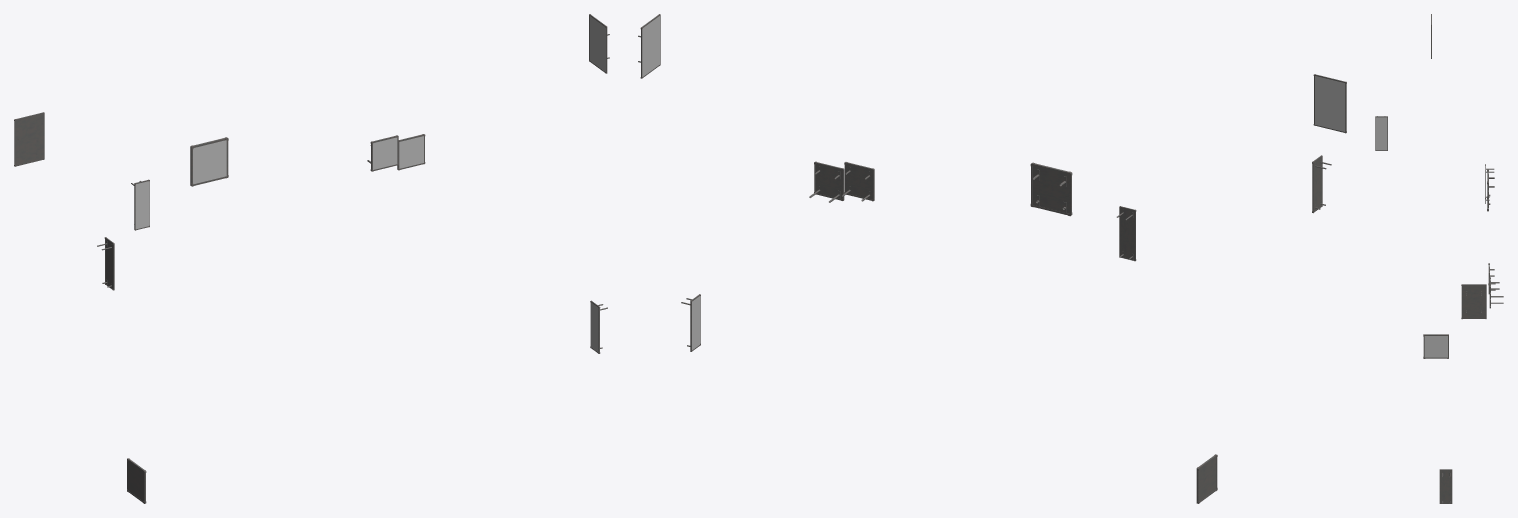
The model's file is Signboard_SetJ_a.fbx.
3 renders of one model, left to right at view 1: azimuth 30°, elevation 25°; view 2: azimuth 150°, elevation 25°; view 3: azimuth 270°, elevation 25°, orthographic. The views are drawn at different scales.
Visible parts, largest first — view 1: SM_ENV_AMVLLG02_Signboard_SetJ_a.mo; view 2: SM_ENV_AMVLLG02_Signboard_SetJ_a.mo; view 3: SM_ENV_AMVLLG02_Signboard_SetJ_a.mo.
Boxes of the visible parts, left/top/right/bottom form: SM_ENV_AMVLLG02_Signboard_SetJ_a.mo: left=14, top=14, right=609, bottom=503; SM_ENV_AMVLLG02_Signboard_SetJ_a.mo: left=638, top=14, right=1346, bottom=503; SM_ENV_AMVLLG02_Signboard_SetJ_a.mo: left=1375, top=14, right=1503, bottom=503.
Bounding box in the file's own units: 8272 × 5246 × 2036.
